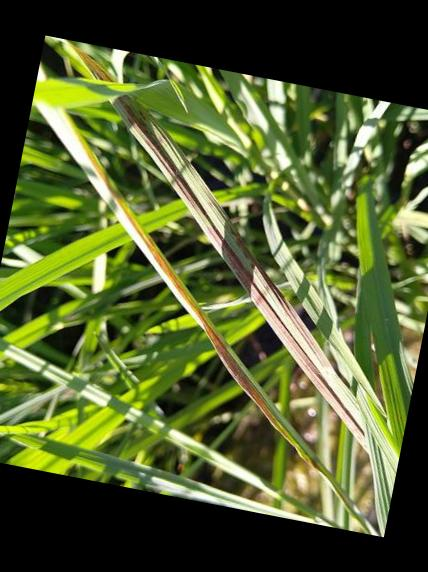Leaf Blight: (65, 133, 360, 516)
Leaf Streak: (111, 93, 371, 455), (68, 43, 113, 83)
